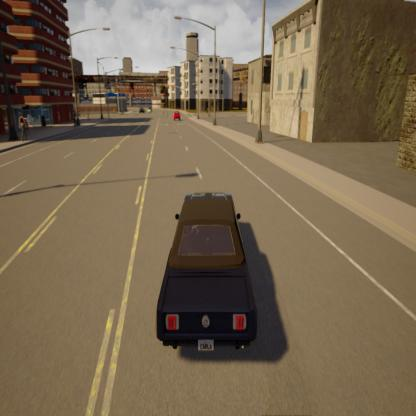Cars: (154, 179, 266, 359), (172, 107, 184, 125)
Pedestrian: (18, 111, 30, 146)
